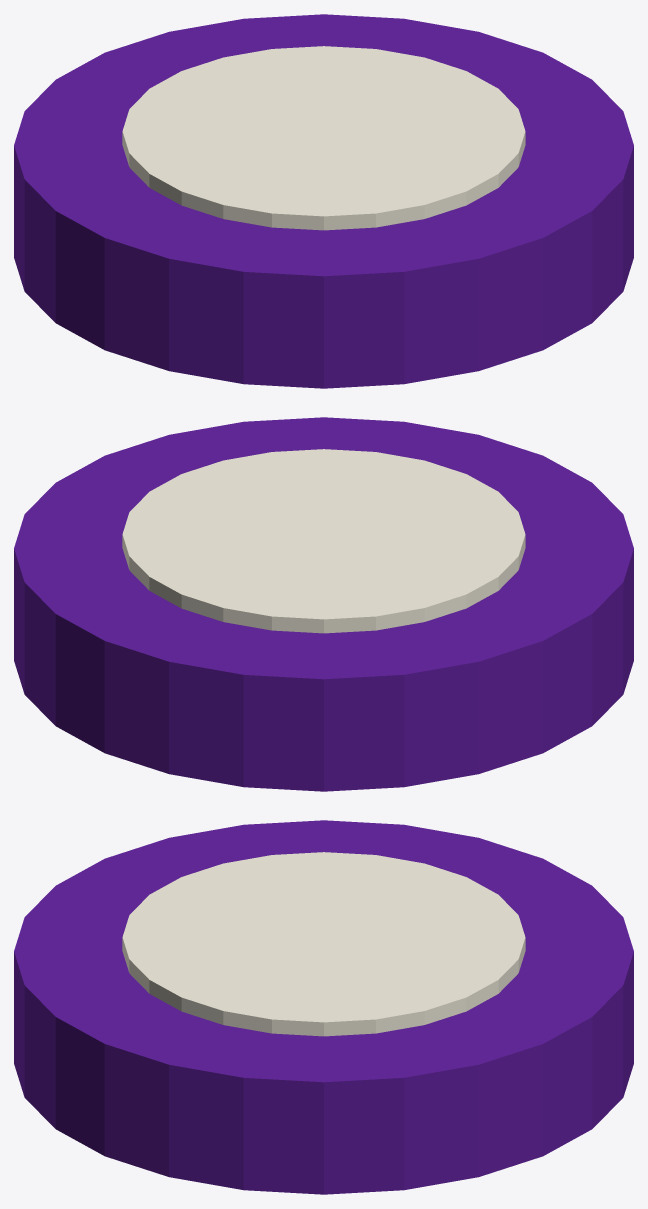
Rendered from Item_OR_Chip_16.glb.
3 renders of one model, top to bottom at view 1: azimuth 30°, elevation 25°; view 2: azimuth 150°, elevation 25°; view 3: azimuth 270°, elevation 25°, orthographic.
Parts seen in each view (by area): view 1: Item_OR_Chip_16; view 2: Item_OR_Chip_16; view 3: Item_OR_Chip_16.
Boxes of the visible parts, <box> form: Item_OR_Chip_16: <box>14,14,633,388</box>; Item_OR_Chip_16: <box>14,417,633,791</box>; Item_OR_Chip_16: <box>14,820,633,1194</box>.
Size of the model in its own units: 0.04 by 0.009 by 0.04.
